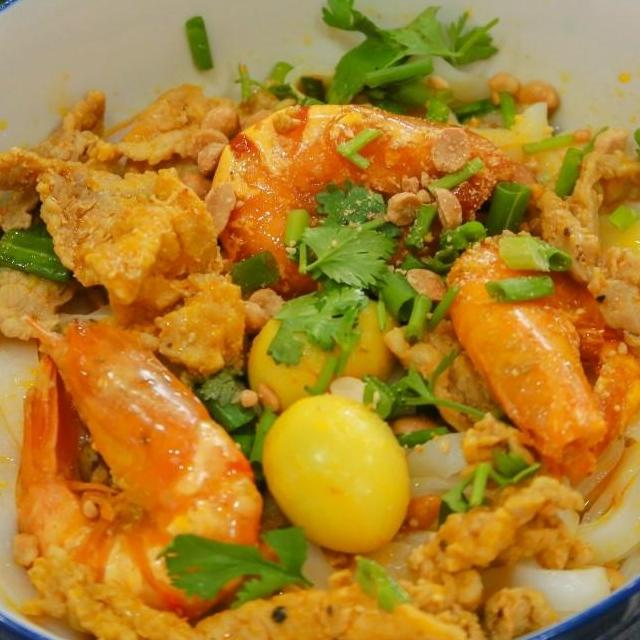mi: (498, 380, 640, 626), (0, 319, 71, 616), (589, 189, 640, 352)
thit heo: (0, 140, 253, 378), (16, 540, 498, 640), (401, 467, 591, 640), (0, 86, 121, 348), (514, 176, 640, 394), (70, 79, 244, 179)
tom: (3, 306, 266, 638), (200, 96, 546, 311), (439, 226, 640, 485)
trung: (256, 388, 414, 560), (238, 289, 404, 422)
